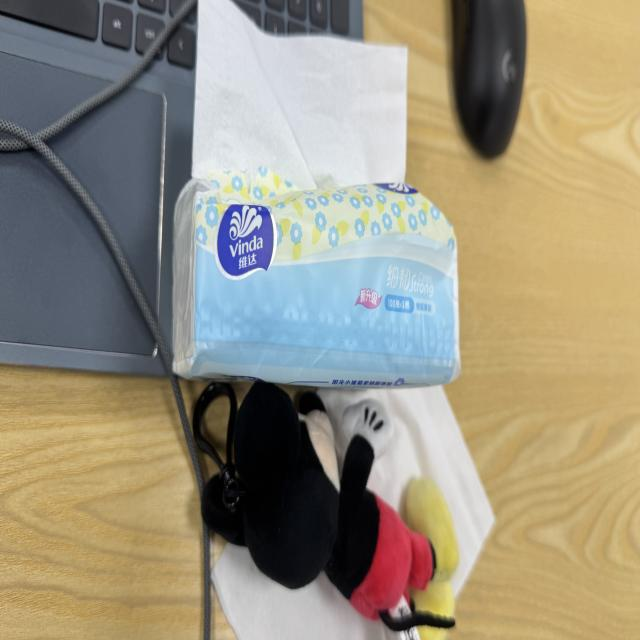mickey: (194, 383, 457, 630)
tissue: (174, 170, 459, 387), (192, 0, 407, 189)
